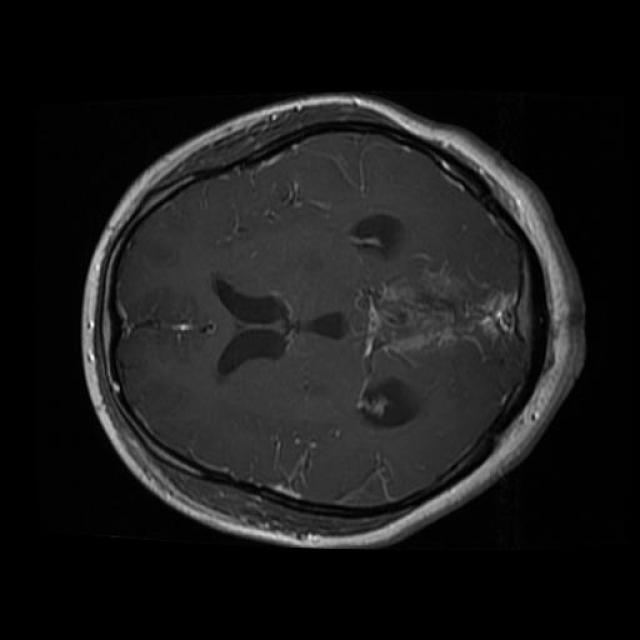Glioma: (364, 262, 516, 377)
